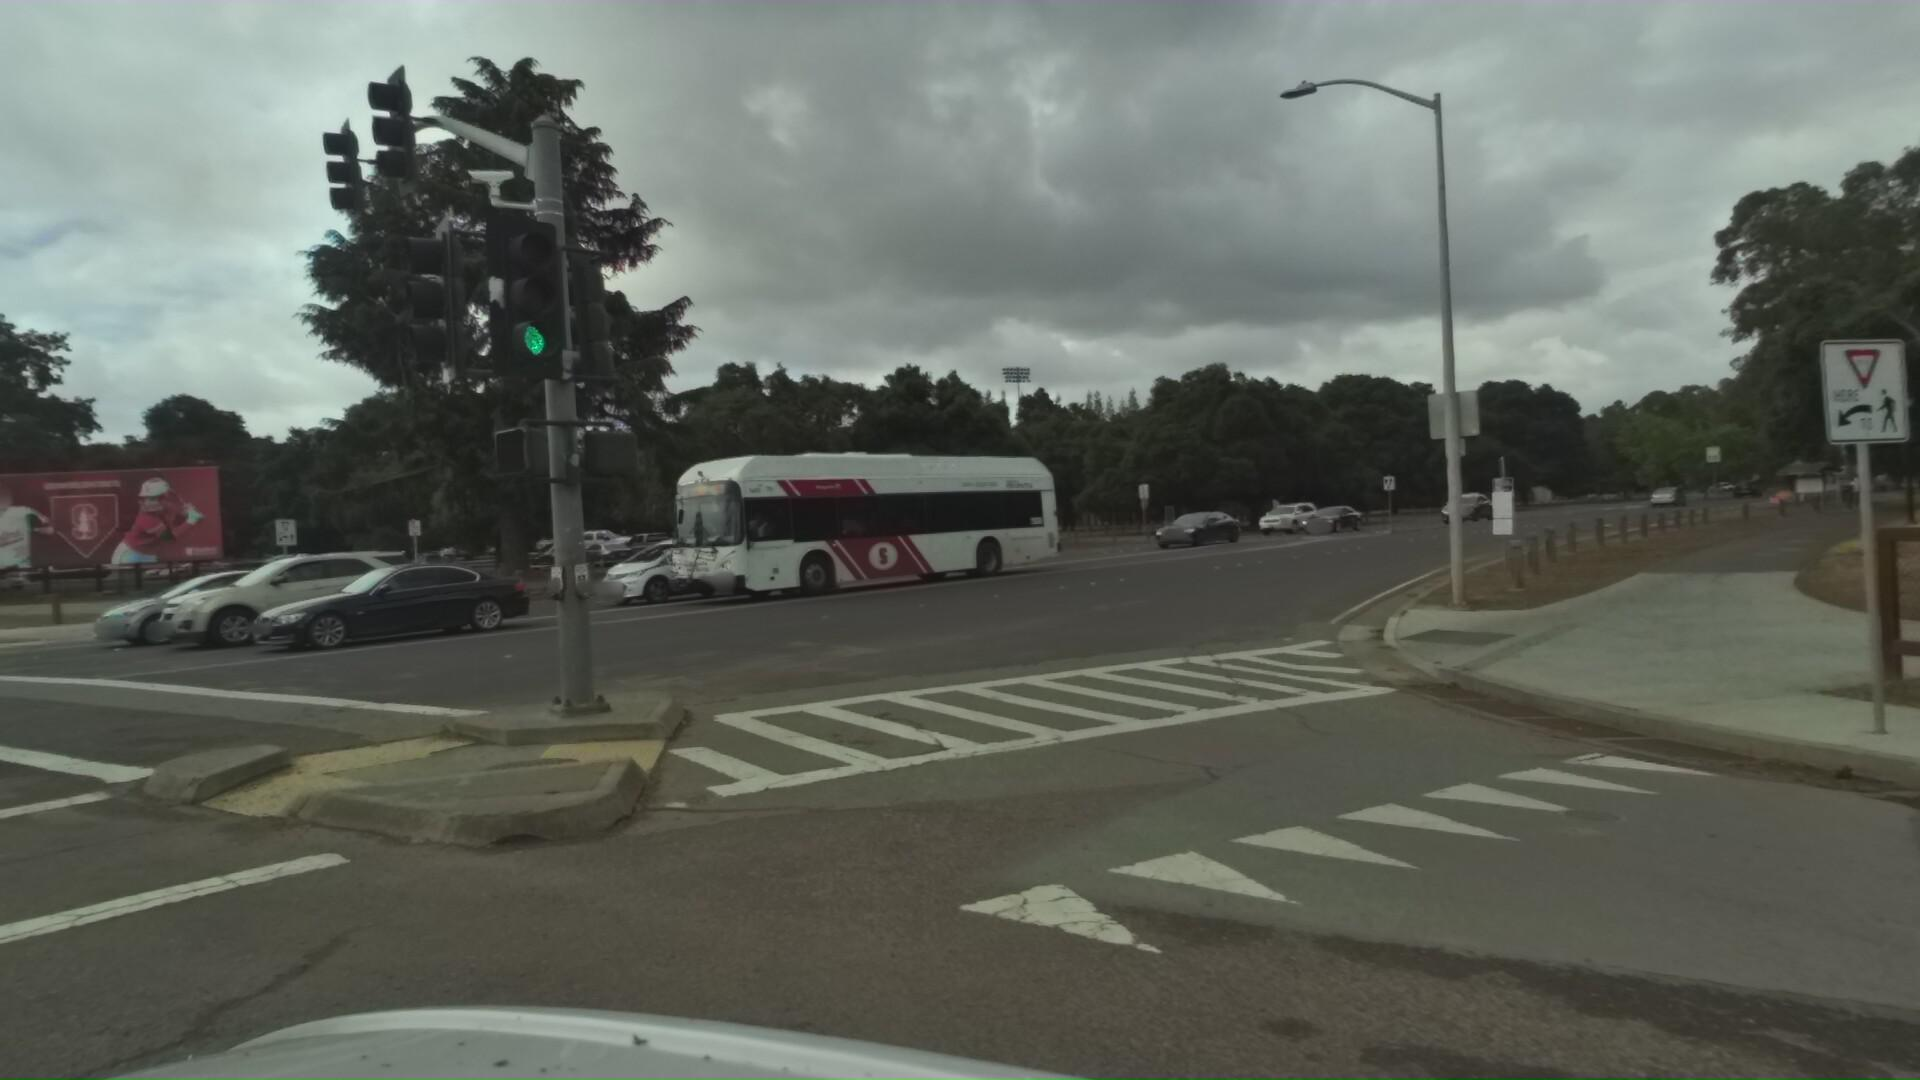bus: (647, 434, 1080, 609)
car: (149, 541, 442, 655), (248, 550, 555, 654), (76, 559, 347, 651), (597, 526, 781, 604), (1154, 502, 1247, 549), (1300, 496, 1370, 531), (1255, 495, 1324, 529), (1439, 485, 1499, 520)
